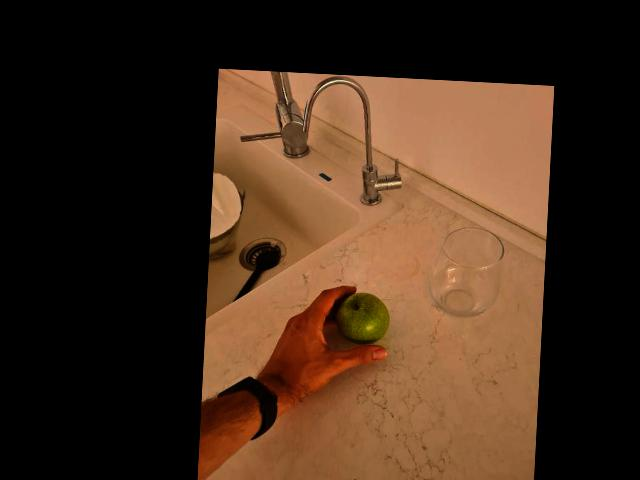apple: (328, 293, 393, 347)
